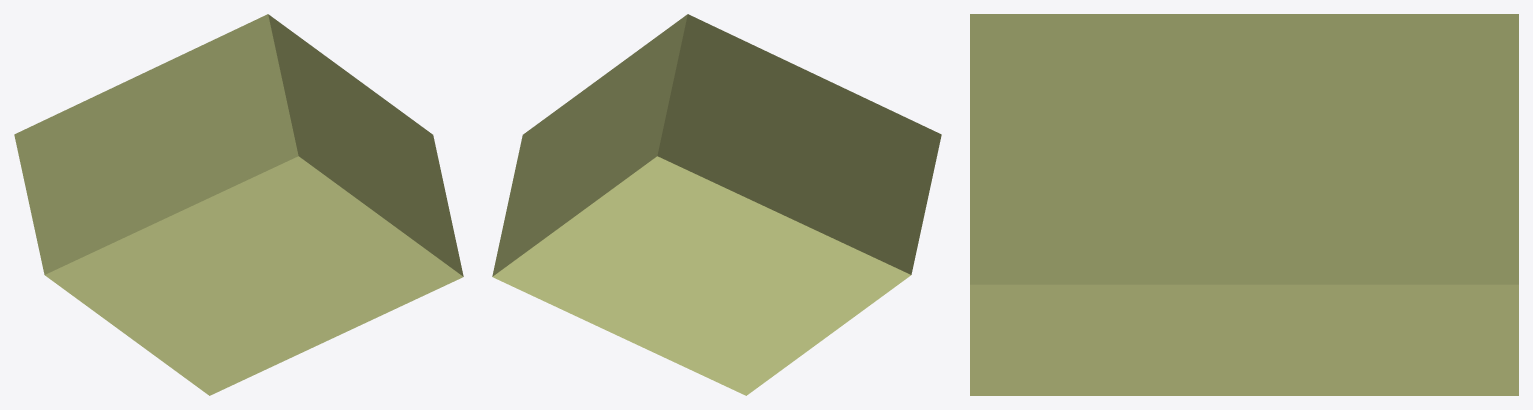
3 views of the same model, side by side, from view 1: azimuth 30°, elevation 25°; view 2: azimuth 150°, elevation 25°; view 3: azimuth 270°, elevation 25° (orthographic). The views are drawn at different scales.
Visible parts, largest first — view 1: 0_1_3_2_2_2_1_2_1_2; view 2: 0_1_3_2_2_2_1_2_1_2; view 3: 0_1_3_2_2_2_1_2_1_2.
Boxes of the visible parts, <box> form: 0_1_3_2_2_2_1_2_1_2: <box>14,14,463,395</box>; 0_1_3_2_2_2_1_2_1_2: <box>492,14,941,395</box>; 0_1_3_2_2_2_1_2_1_2: <box>970,14,1518,395</box>.
Size of the model in its own units: 8.95 by 6.21 by 9.
